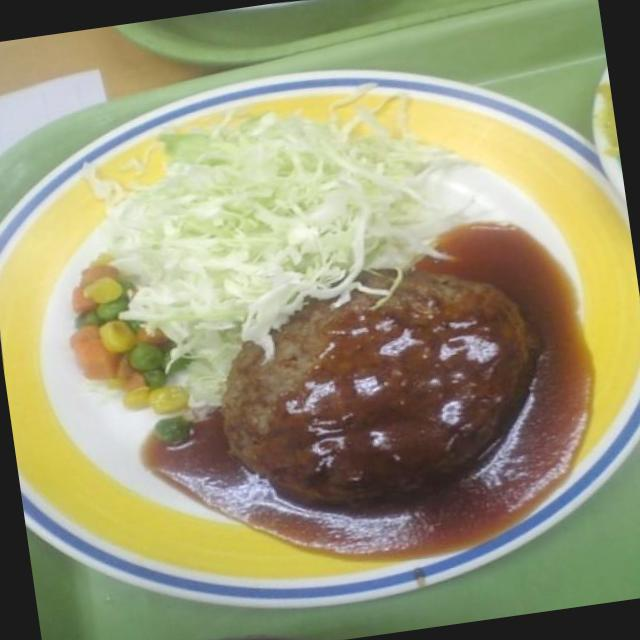Green Salad: (96, 102, 402, 332)
